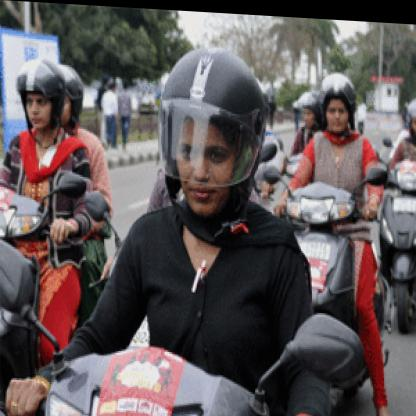With Helmet: (152, 27, 265, 219), (11, 49, 68, 140), (315, 63, 358, 133)
